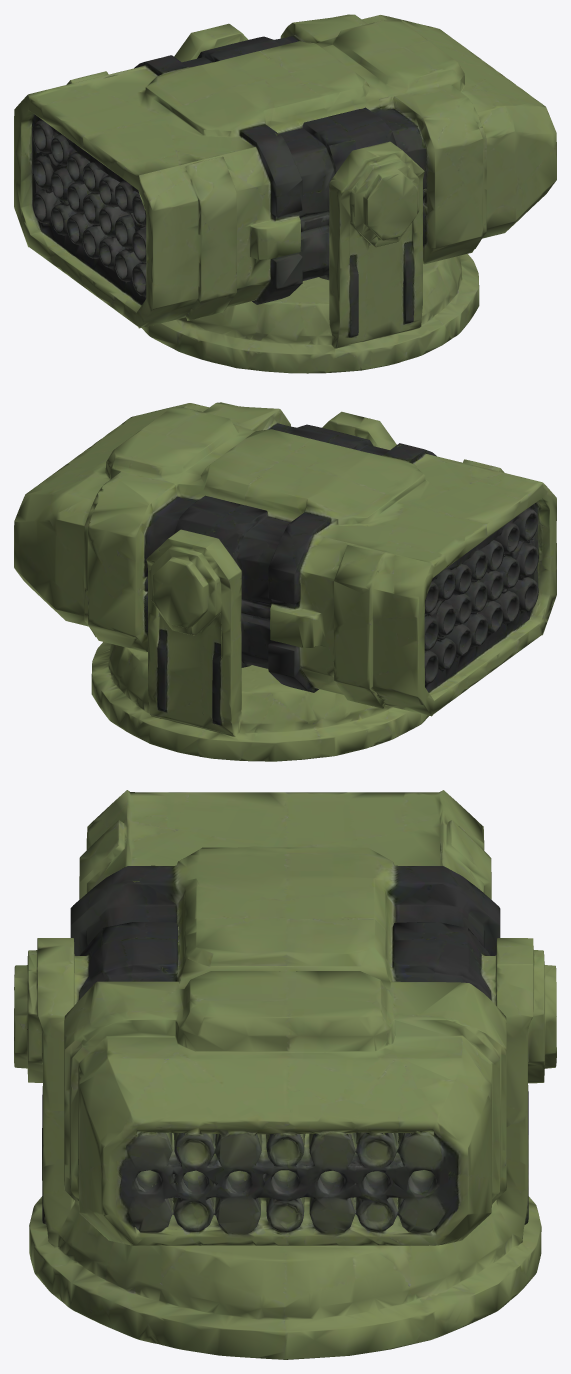
File: turret-rocket.glb
3 views of the same model, one above another, from view 1: azimuth 30°, elevation 25°; view 2: azimuth 150°, elevation 25°; view 3: azimuth 270°, elevation 25° (orthographic). The views are drawn at different scales.
Bounding box in the file's own units: 1.9 × 1.01 × 1.53.
1 material, 1 textured.
